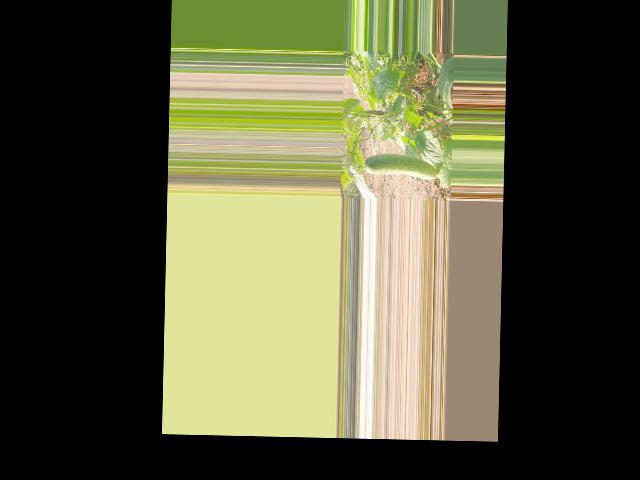cucumber: (364, 153, 437, 180)
